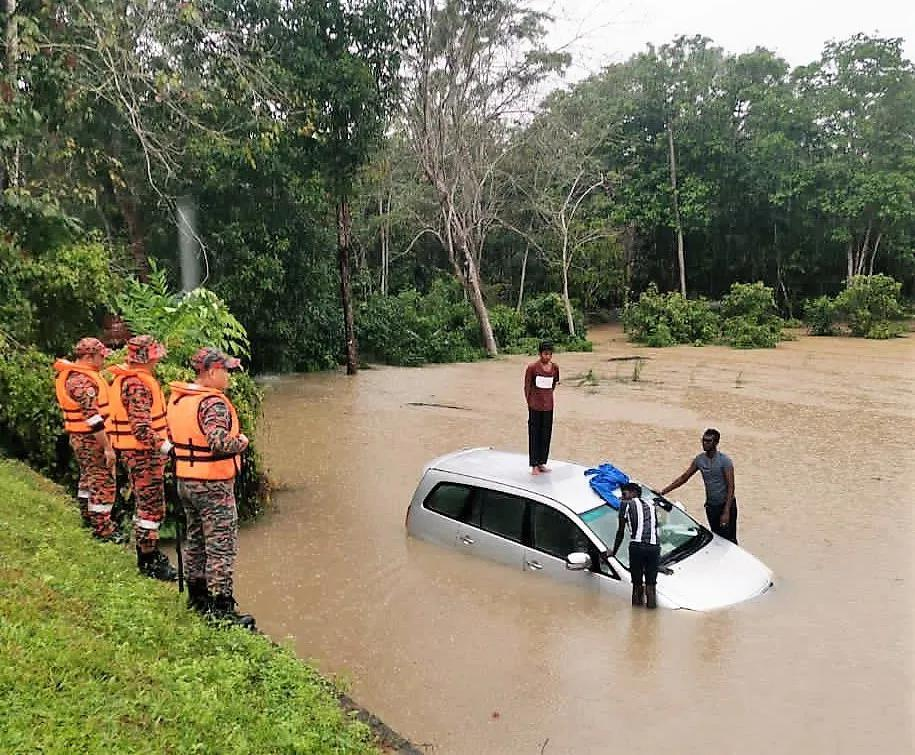water: (239, 319, 914, 754)
